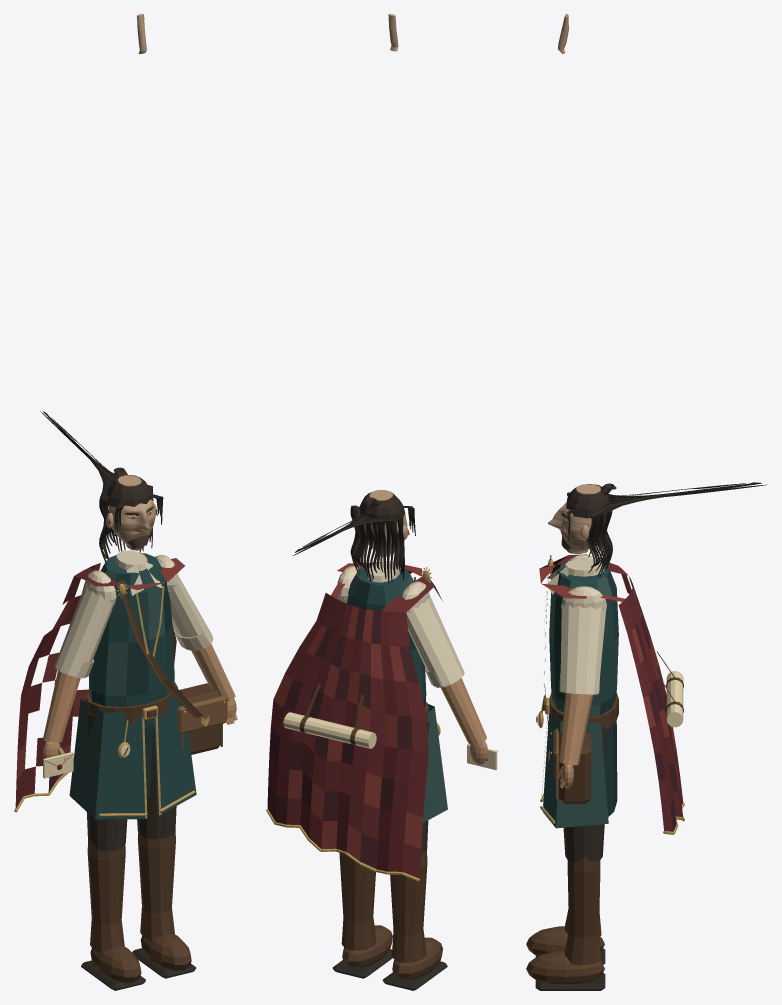
The model's file is courier.glb.
3 views of the same model, side by side, from view 1: azimuth 30°, elevation 25°; view 2: azimuth 150°, elevation 25°; view 3: azimuth 270°, elevation 25° (orthographic).
Visible parts, largest first — view 1: Waistcoat, Split_coat_R, Cloak_folds, Boot_shaft_R, Boot_shaft_L, Split_coat_L, Linen_sleeve_R, Forearm_R, Face, Linen_sleeve_L, Trouser_thigh_L, Boot_toe_L (+13 smaller); view 2: Cloak_folds, Boot_shaft_R, Boot_shaft_L, Linen_sleeve_R, Waistcoat, Split_coat_R, Map_roll, Forearm_R, Boot_toe_L, Boot_toe_R, Hair_target_top, Boot_sole_R (+1 smaller); view 3: Cloak_folds, Waistcoat, Linen_sleeve_L, Boot_shaft_L, Split_coat_L, Boot_toe_L, Forearm_L, Trouser_thigh_L, Messenger_satchel, Face, Back_coat, Boot_toe_R (+6 smaller).
Part boxes in pixels (<box>): Waistcoat: <box>89,553,174,727</box>; Split_coat_R: <box>69,699,145,819</box>; Cloak_folds: <box>15,558,184,809</box>; Boot_shaft_R: <box>87,839,125,952</box>; Boot_shaft_L: <box>138,830,175,940</box>; Split_coat_L: <box>154,689,196,815</box>; Linen_sleeve_R: <box>54,584,114,678</box>; Forearm_R: <box>43,670,80,742</box>; Face: <box>109,475,155,550</box>; Linen_sleeve_L: <box>169,575,213,650</box>; Trouser_thigh_L: <box>137,727,176,839</box>; Boot_toe_L: <box>140,933,191,971</box>; Cloak_folds: <box>267,561,442,878</box>; Boot_shaft_R: <box>390,850,427,962</box>; Boot_shaft_L: <box>339,852,376,950</box>; Linen_sleeve_R: <box>406,594,464,687</box>; Waistcoat: <box>347,564,426,707</box>; Split_coat_R: <box>423,703,447,822</box>; Map_roll: <box>283,712,376,748</box>; Forearm_R: <box>441,678,486,744</box>; Boot_toe_L: <box>342,925,392,967</box>; Boot_toe_R: <box>392,937,442,979</box>; Hair_target_top: <box>359,492,405,522</box>; Boot_sole_R: <box>382,961,447,990</box>; Cloak_folds: <box>539,554,683,831</box>; Waistcoat: <box>549,558,618,717</box>; Linen_sleeve_L: <box>560,604,606,694</box>; Boot_shaft_L: <box>564,856,601,965</box>; Split_coat_L: <box>543,704,608,828</box>; Boot_toe_L: <box>526,950,604,984</box>; Forearm_L: <box>559,693,592,765</box>; Trouser_thigh_L: <box>563,726,607,862</box>; Messenger_satchel: <box>559,730,591,803</box>; Face: <box>548,484,600,553</box>; Back_coat: <box>603,721,617,816</box>; Boot_toe_R: <box>526,926,604,956</box>.
Size of the model in its own units: 0.7395 by 3.42 by 0.7841.
